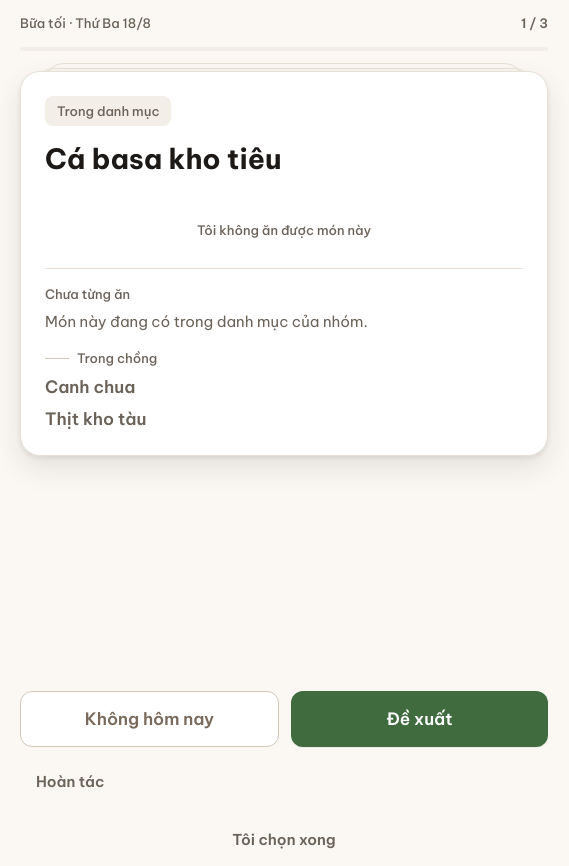
S-09 Deck vuốt › hết deck thì chuyển trạng thái hết món với câu "N món được chọn cho hôm nay" (E8-T5)
Step 1. Click the button with aria-label "Đề xuất Cá basa kho tiêu" → [420, 719], box [291, 691, 548, 747]
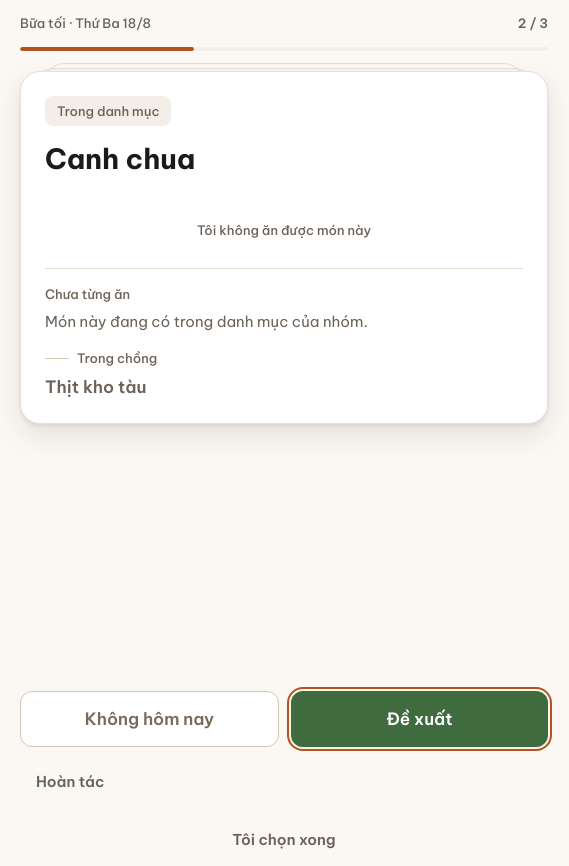
Step 2. Click the button with aria-label "Đề xuất Canh chua" → [420, 719], box [291, 691, 548, 747]
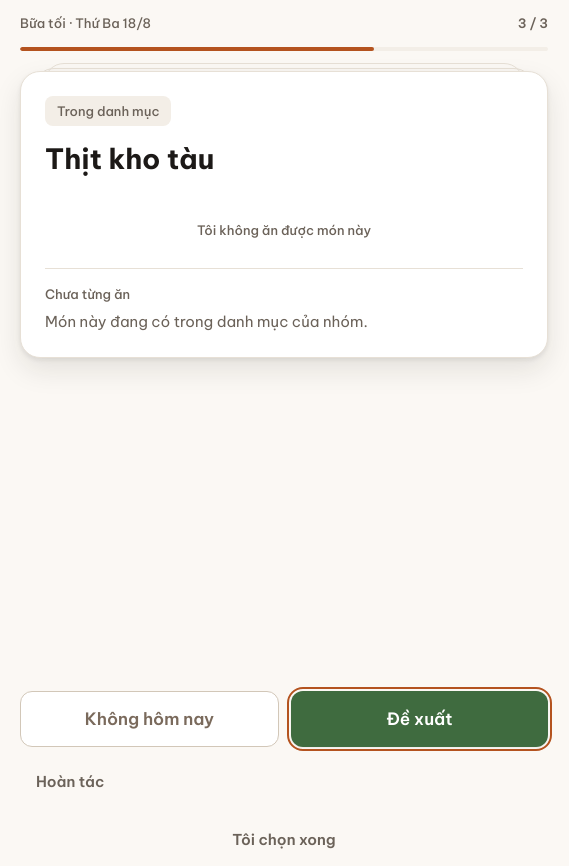
Step 3. Click the button with aria-label "Đề xuất Thịt kho tàu" → [420, 719], box [291, 691, 548, 747]
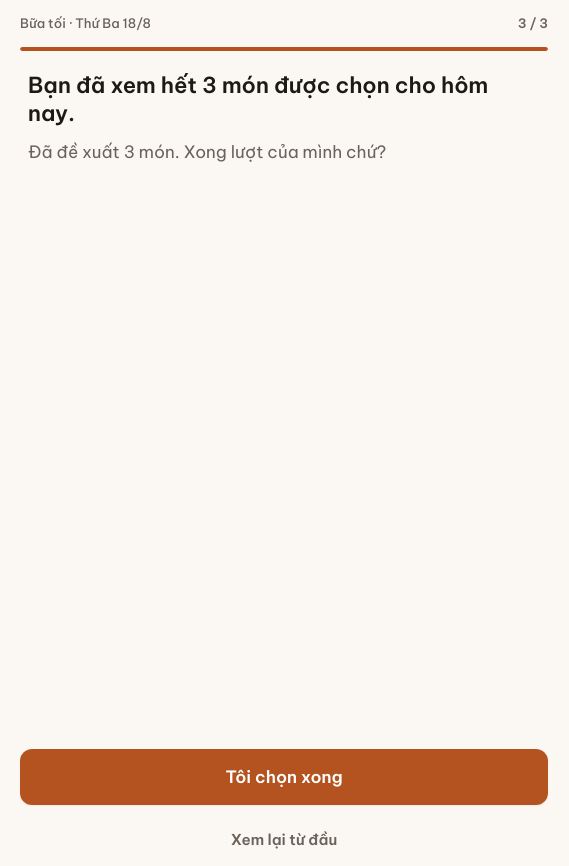
Expected: the heading "Bạn đã xem hết 3 món được chọn cho hôm nay." is shown, [28, 71, 540, 127]
Expected: the text "Đã đề xuất 3 món. Xong lượt của mình chứ?" is shown, [28, 141, 386, 163]
